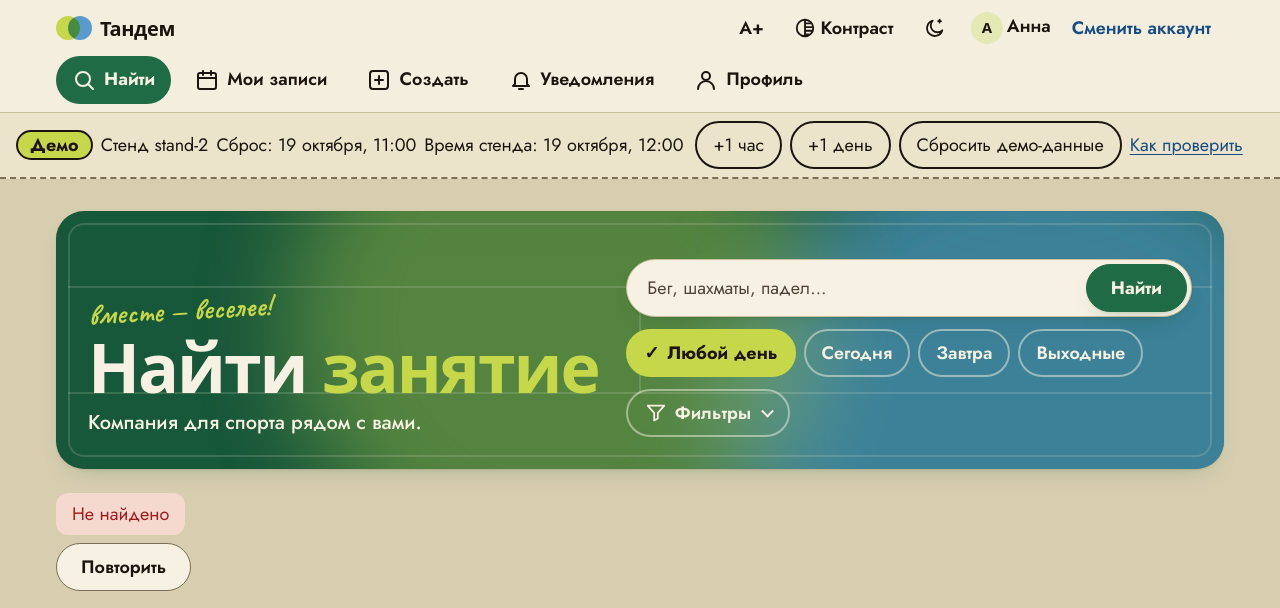
Test case: демо-панель (ТЗ 4.6) › «+1 час» и «+1 день» двигают часы стенда и обновляют время на экране
Click the button "+1 час": (739, 145) [696,121,782,169]
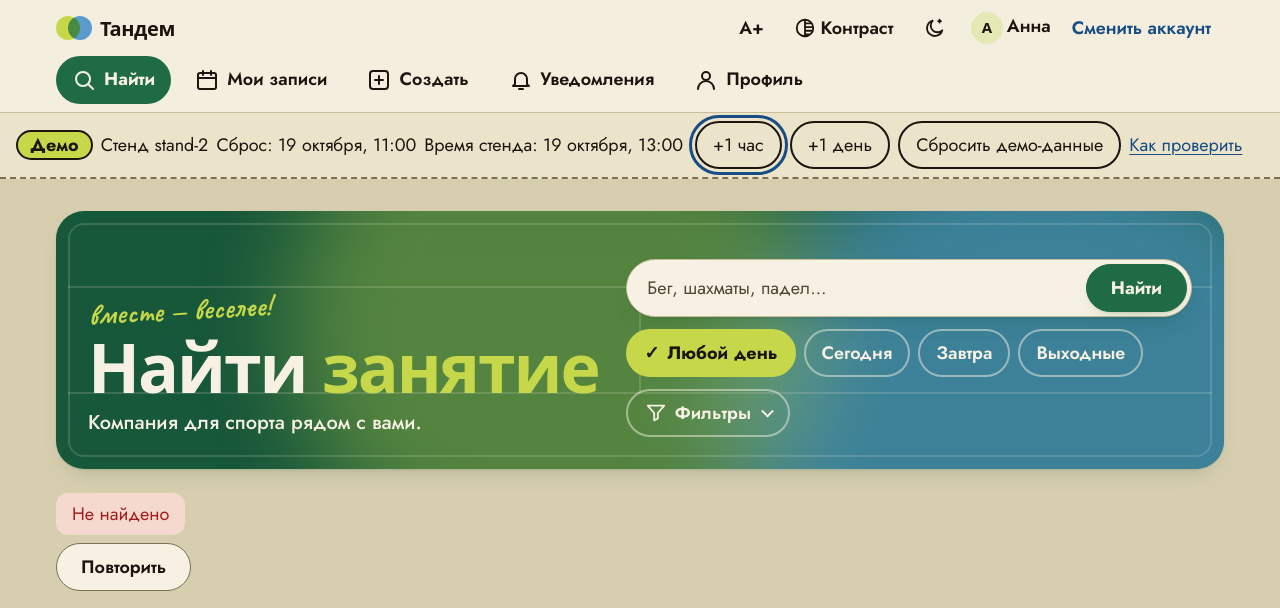
Check: the text "Время стенда: 19 октября, 13:00" is shown, box [424,132,683,158]
Click the button "+1 день": (840, 145) [790,121,890,169]
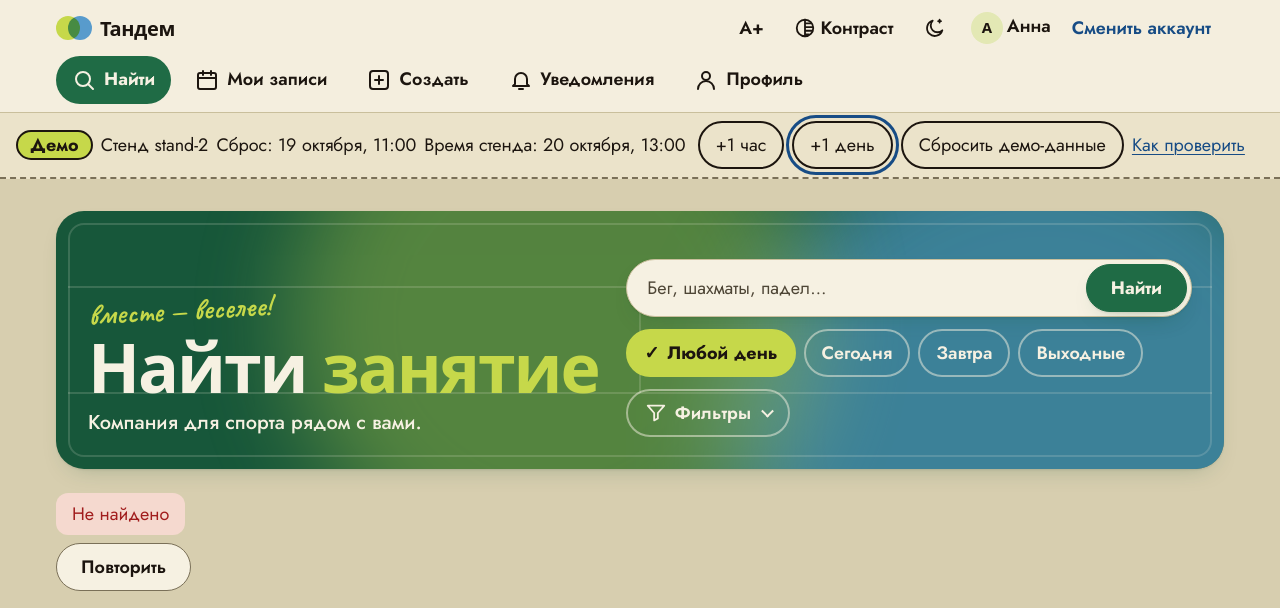
Check: the text "Время стенда: 20 октября, 13:00" is shown, box [424,132,686,158]
